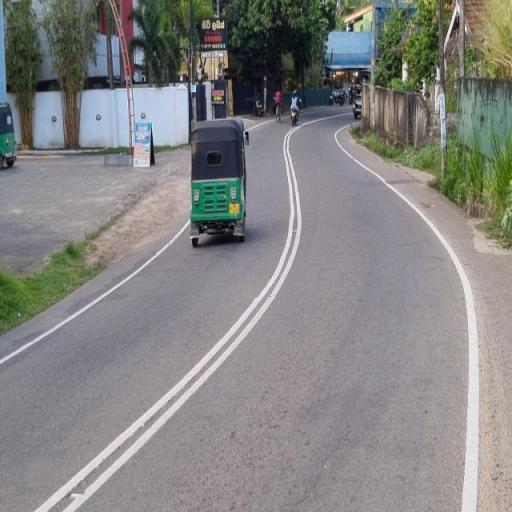double_white_line: (2, 223, 188, 365)
